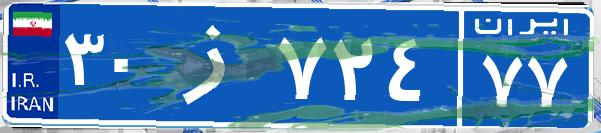0: (110, 28, 158, 105)
2: (330, 28, 385, 110)
3: (57, 26, 110, 107)
4: (385, 28, 445, 110)
7: (273, 28, 330, 110), (475, 38, 525, 113), (525, 38, 570, 115)
ز: (158, 15, 273, 115)
